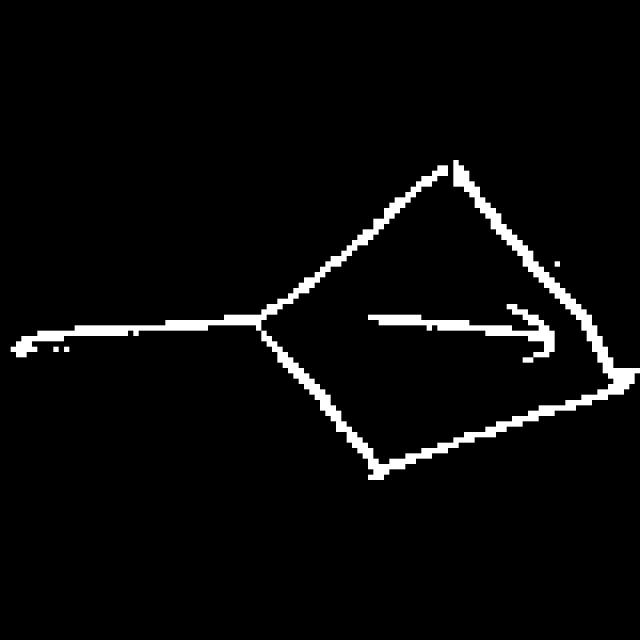dependant_current: (259, 150, 629, 505)
